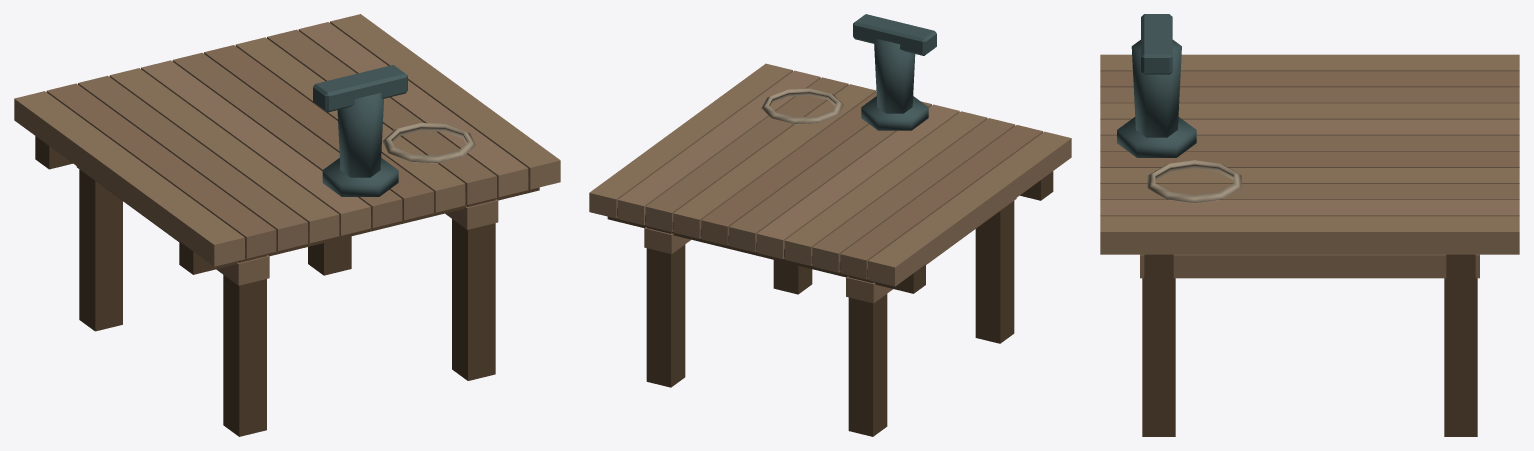
The model's file is coast_dock_bollard.glb.
3 renders of one model, left to right at view 1: azimuth 30°, elevation 25°; view 2: azimuth 150°, elevation 25°; view 3: azimuth 270°, elevation 25°, orthographic. The views are drawn at different scales.
Visible parts, largest first — view 1: coast_dock_bollard; view 2: coast_dock_bollard; view 3: coast_dock_bollard.
Part boxes in pixels (bbox=[...]): coast_dock_bollard: bbox=[14, 14, 560, 436]; coast_dock_bollard: bbox=[589, 14, 1071, 436]; coast_dock_bollard: bbox=[1100, 14, 1519, 436].
Bounding box in the file's own units: 2 × 1.78 × 2.
